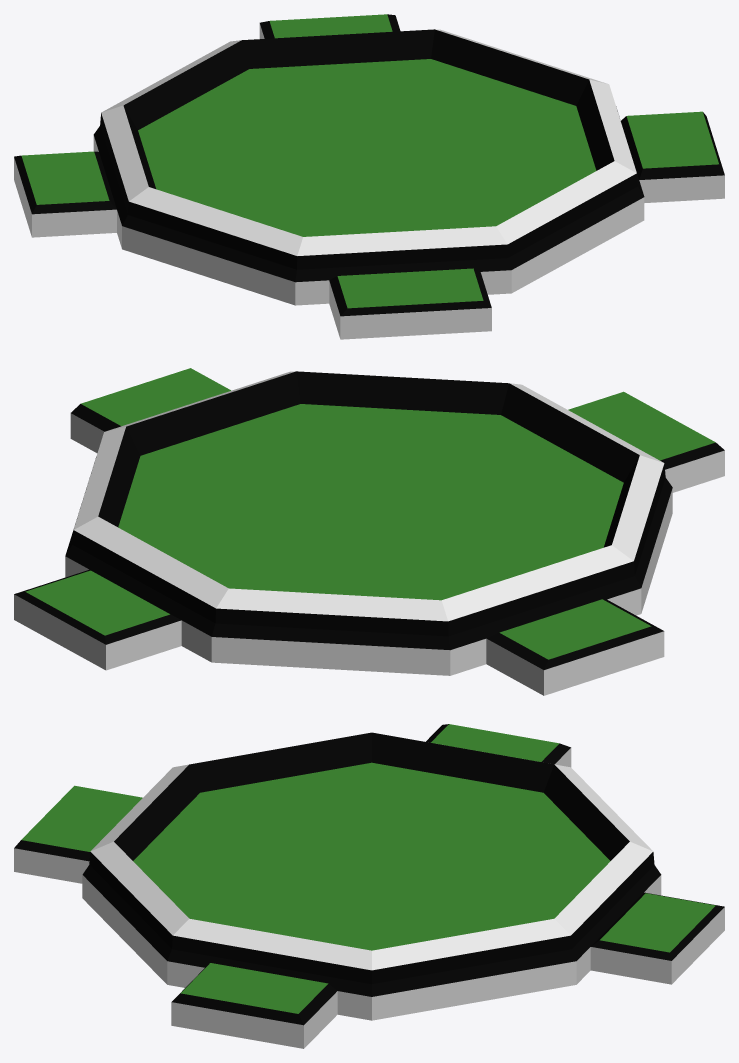
File: trampoline_1.fbx
3 views of the same model, one above another, from view 1: azimuth 30°, elevation 25°; view 2: azimuth 150°, elevation 25°; view 3: azimuth 270°, elevation 25° (orthographic). The views are drawn at different scales.
Parts seen in each view (by area): view 1: Cylinder; view 2: Cylinder; view 3: Cylinder.
Part boxes in pixels (bbox=[...]): Cylinder: bbox=[14, 14, 724, 339]; Cylinder: bbox=[14, 368, 724, 695]; Cylinder: bbox=[14, 724, 724, 1048].
Bounding box in the file's own units: 10425 × 919 × 10427.
